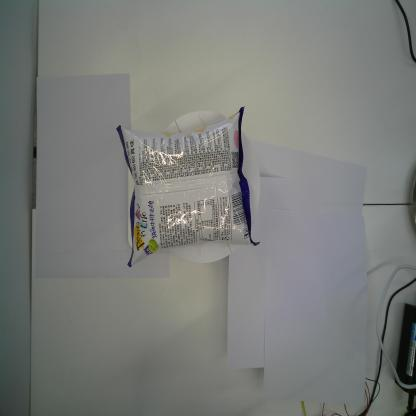Puffed Food: (116, 103, 262, 270)
